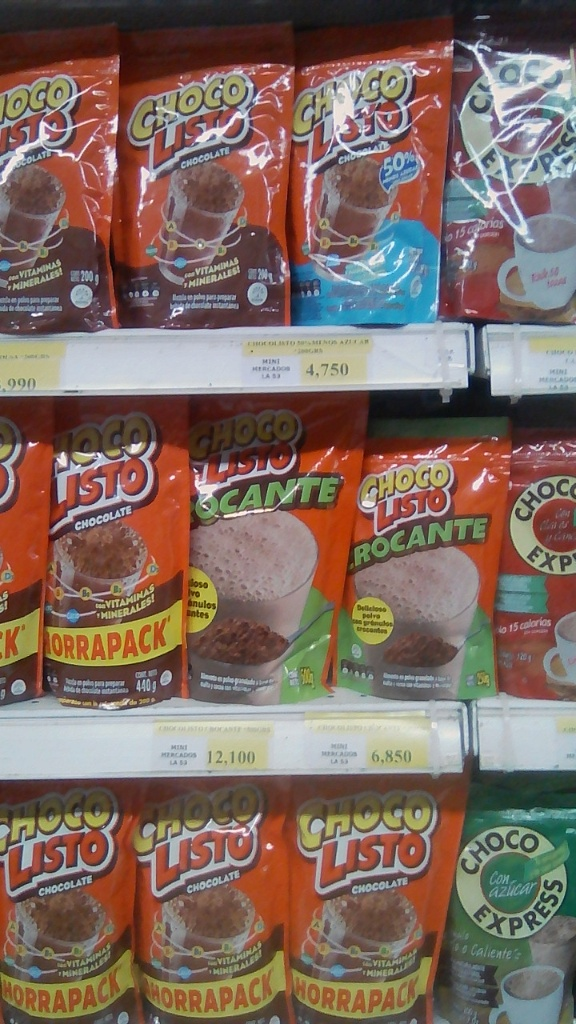COL0170102DYP50000: (184, 392, 363, 704)
COL0170103DYP44000: (50, 394, 190, 707)
COL0170104DYP20000: (287, 7, 448, 330)
